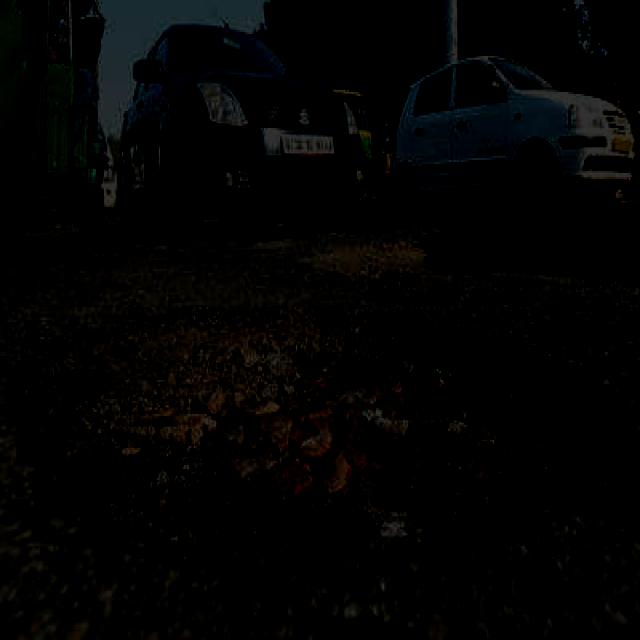Pothole: (15, 296, 632, 582)
